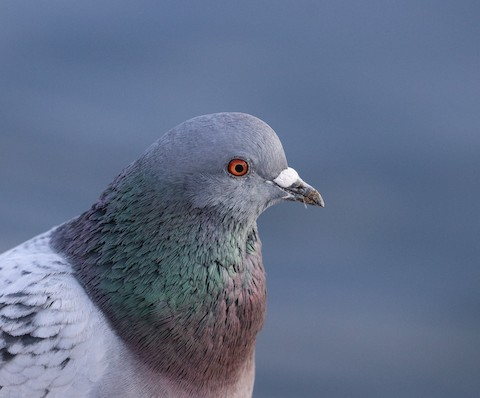pigeon: (14, 109, 337, 385)
